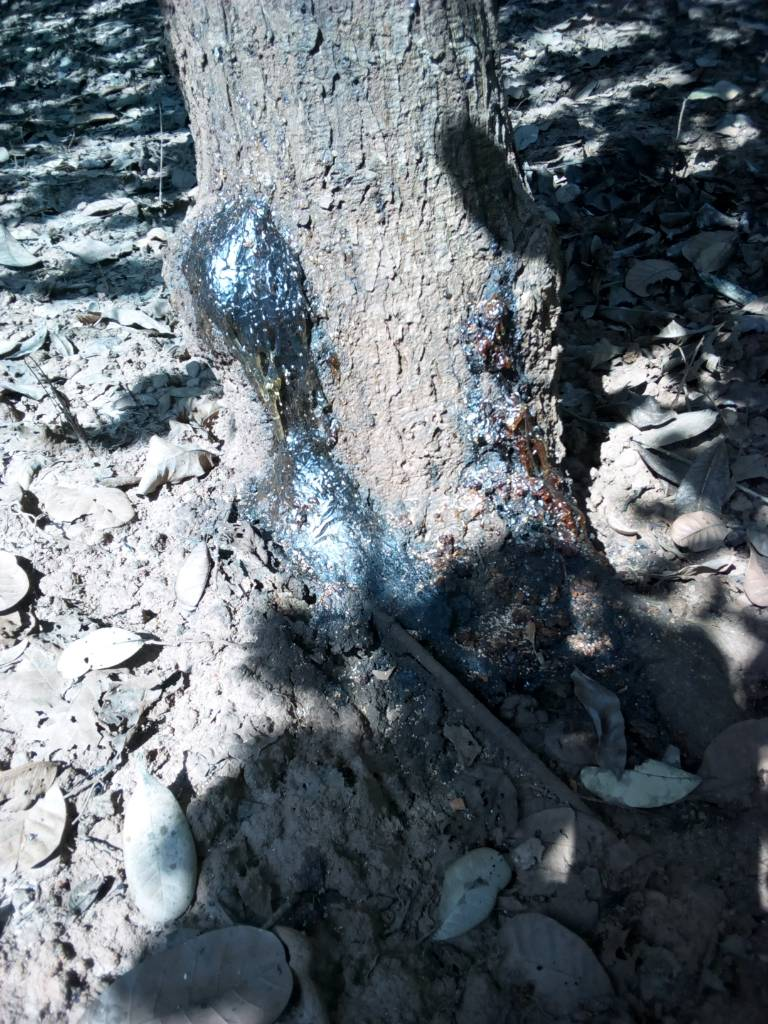Gommose: (180, 210, 340, 422), (471, 267, 586, 552)
